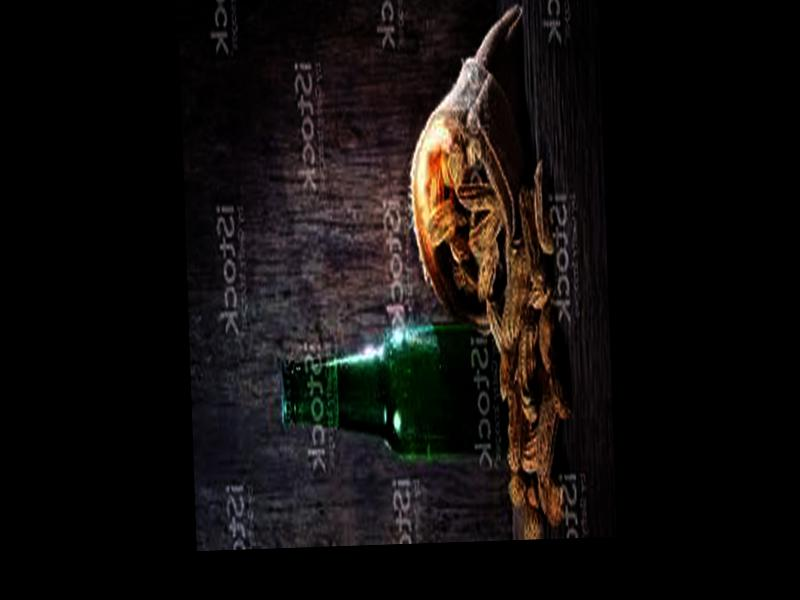Beer: (276, 316, 525, 462)
